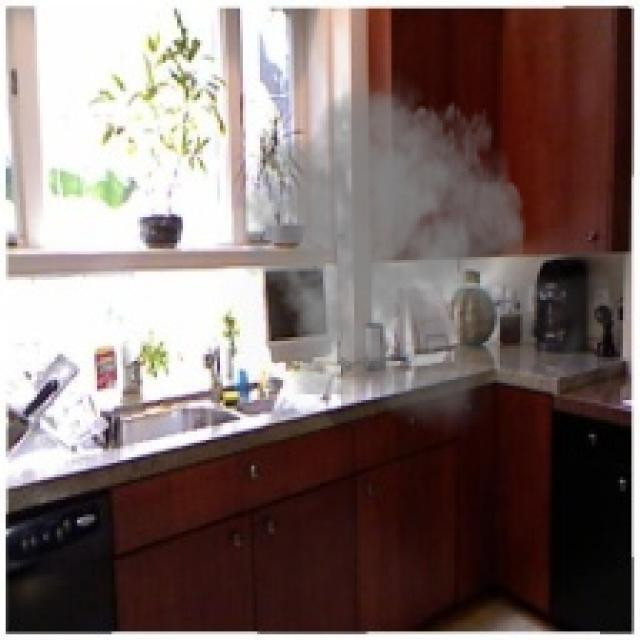Smoke: (234, 63, 629, 440)
